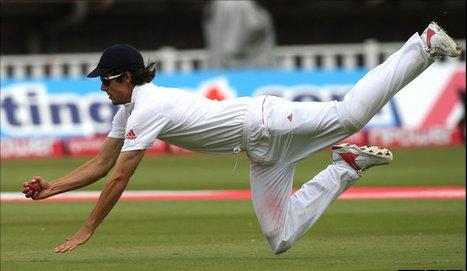Cricket-Ball: (26, 180, 45, 194)
